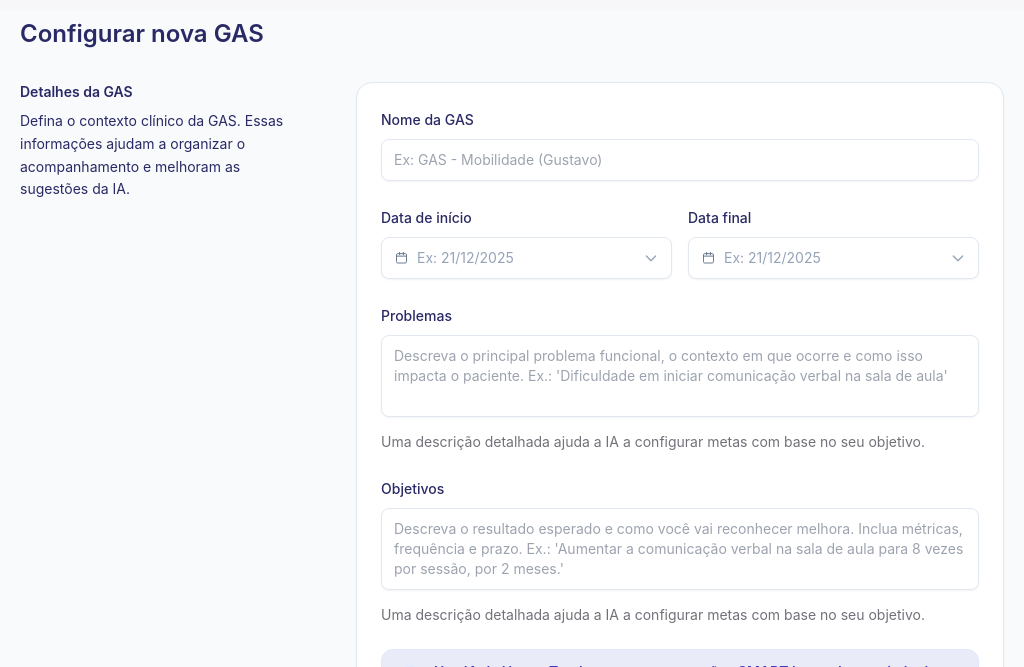
Test: App - Integration Tests › 4. Validações Obrigatórias para Salvar GAS › deve validar Celular (obrigatório)
Note: Preenche Nome da GAS
In the field with placeholder "Ex: GAS - Mobilidade (Gustavo)": (680, 160) [381,139,979,181], type "Minha GAS"
(page scrolled)
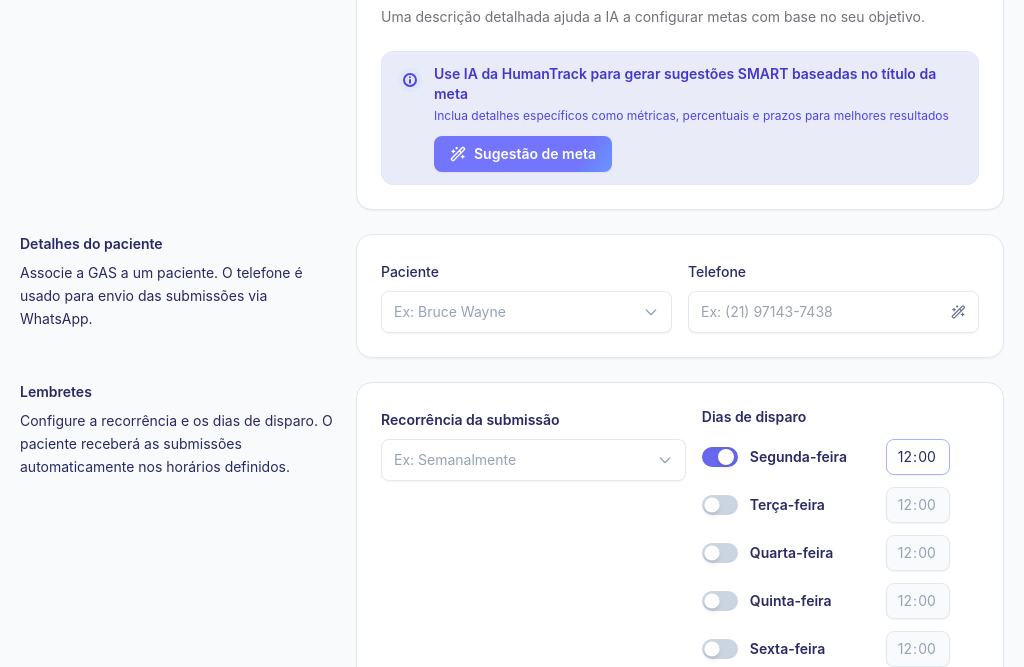
Note: Seleciona paciente
Click the button "Ex: Bruce Wayne": (450, 312) [381,291,672,333]
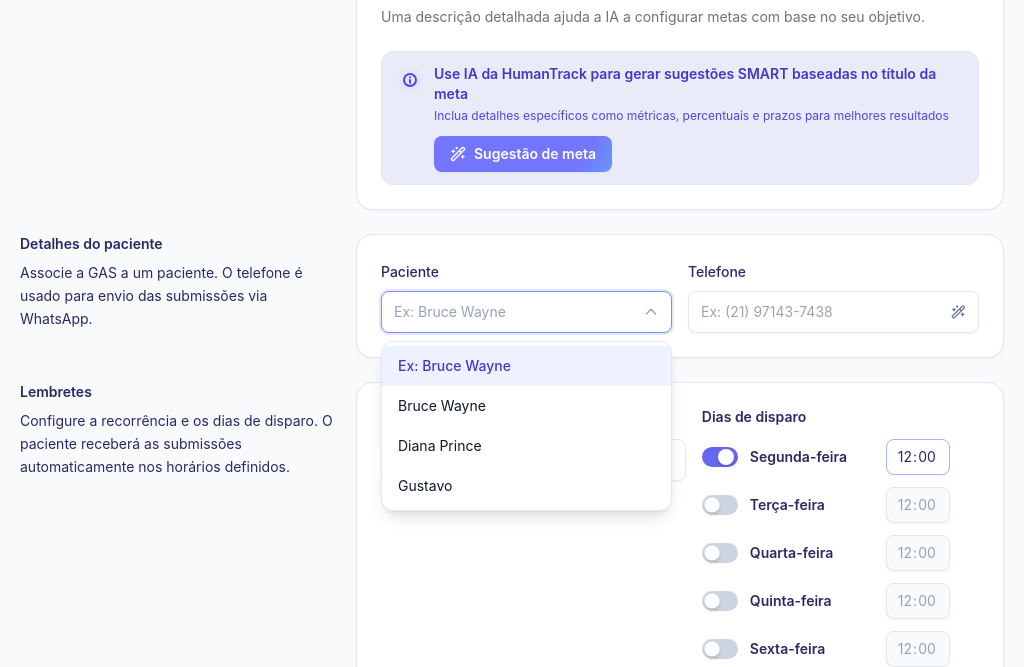
Click the button "Bruce Wayne": (442, 406) [382,386,671,426]
(page scrolled)
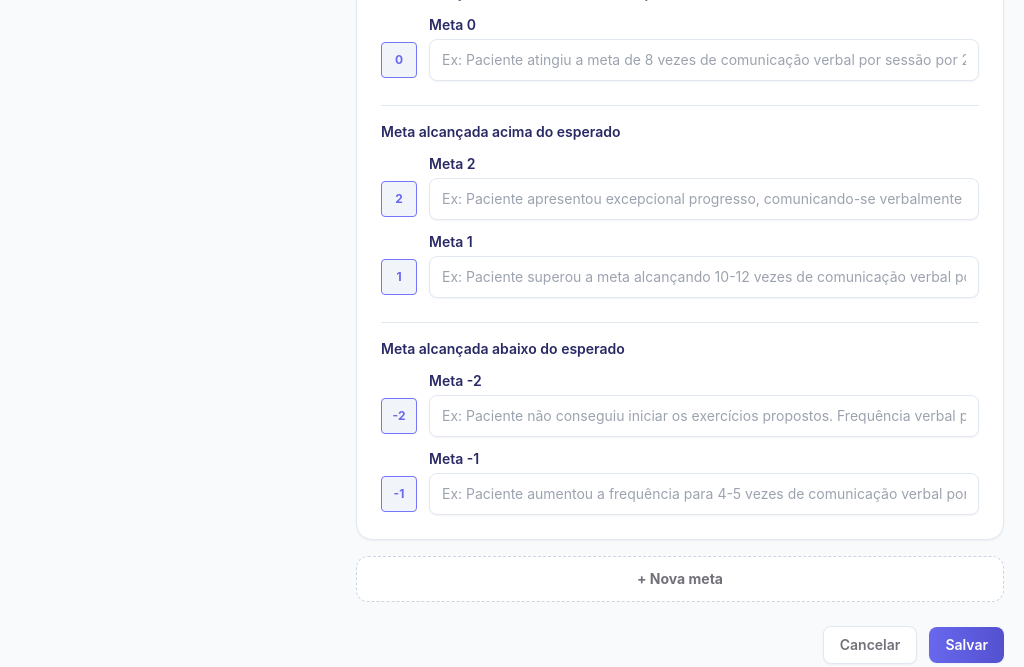
Note: Tenta salvar sem telefone
Click the button "Salvar": (967, 645) [929,627,1004,663]
(page scrolled)
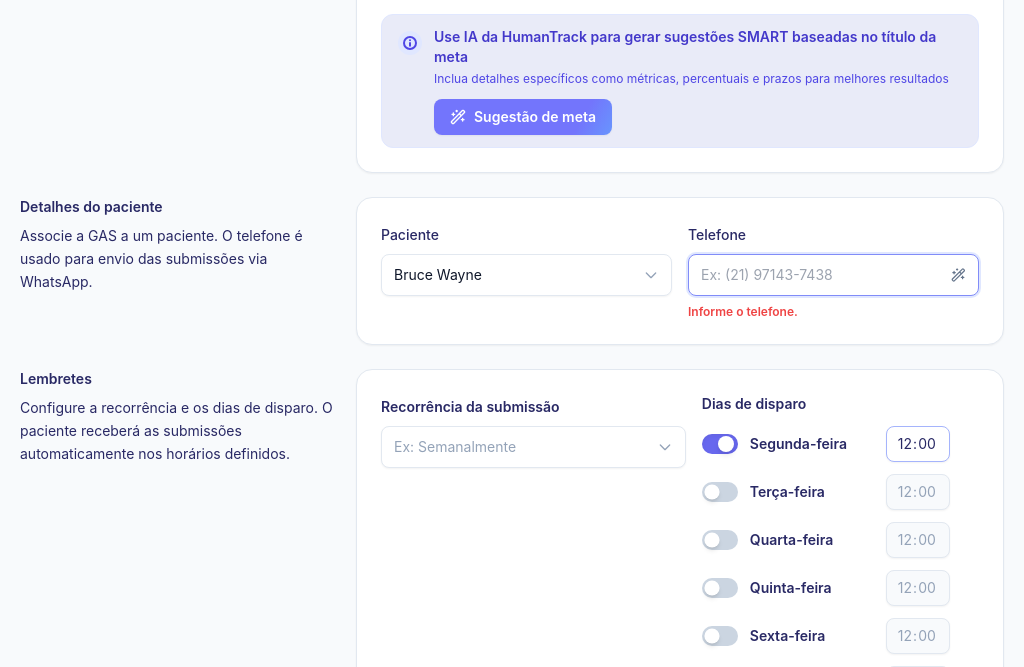
Expected: the text "Informe o telefone." is shown, [688,304,798,319]
